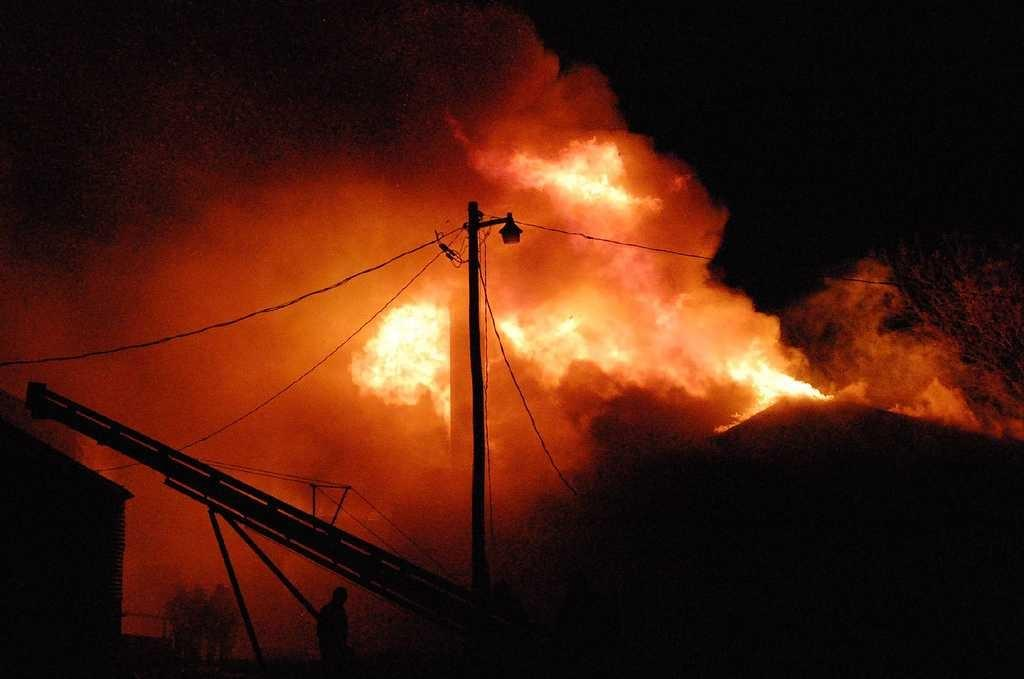fire: (518, 131, 670, 220), (350, 293, 456, 417), (500, 293, 653, 378), (724, 351, 838, 410)
smoke: (108, 230, 343, 431)
